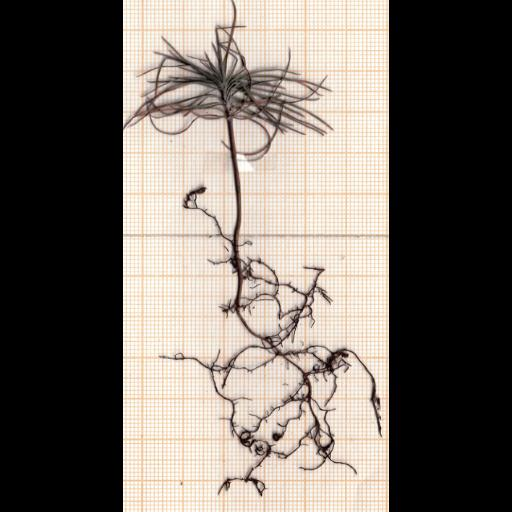flowerCedr: (124, 0, 330, 159)
rootCedr: (208, 241, 381, 495)
stemCedr: (228, 119, 241, 244)
